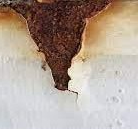Corrosion: (1, 1, 113, 91)
